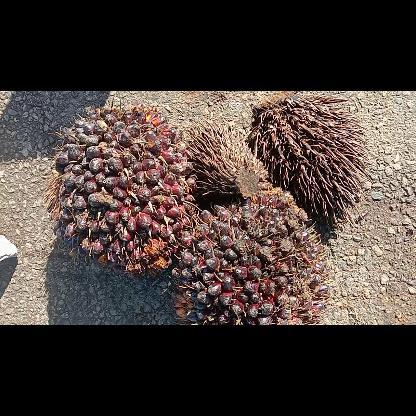Janjang kosong: (247, 91, 371, 227), (182, 119, 268, 197)
TBS mentah: (43, 98, 195, 278), (169, 186, 335, 324)
